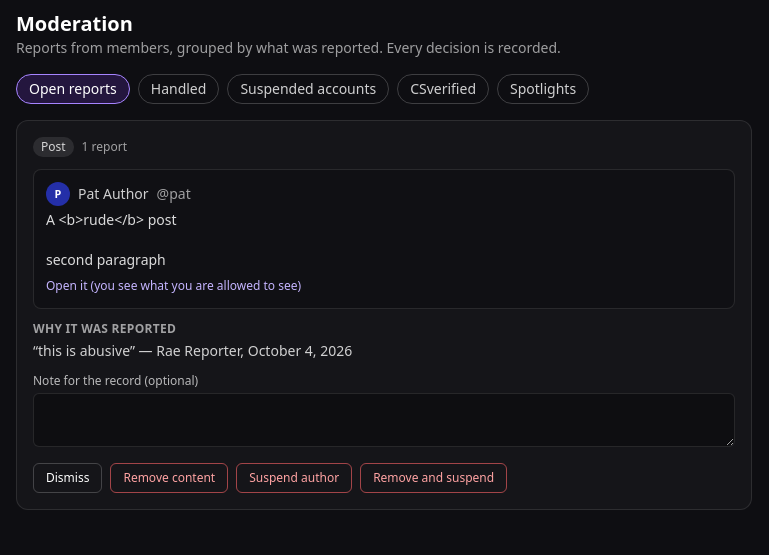
Test: ModerationPage: open reports › keeps the case and shows the reason when a decision can't be saved
Click the button "Suspend author" at (294, 478), box [236, 463, 352, 493]
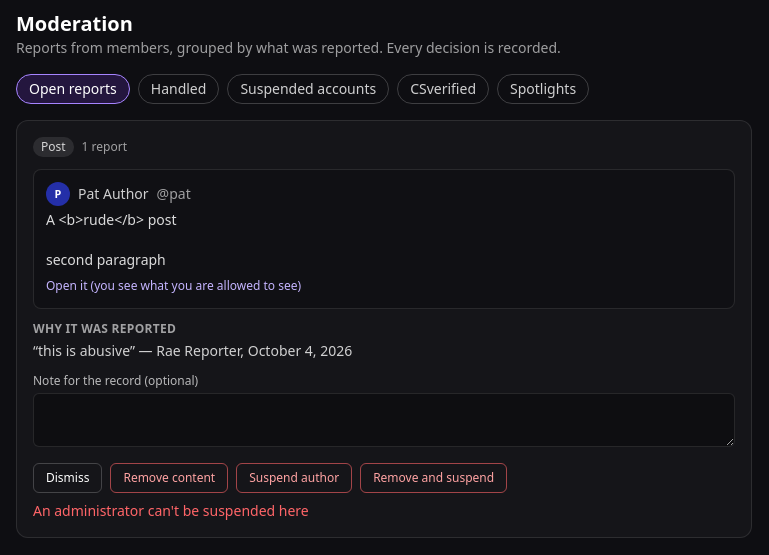
Expected: the text "“this is abusive” — Rae Reporter, October 4, 2026" is shown, [33, 341, 352, 360]
Now the message shows "administrator can't be suspended", box [33, 501, 309, 520]
